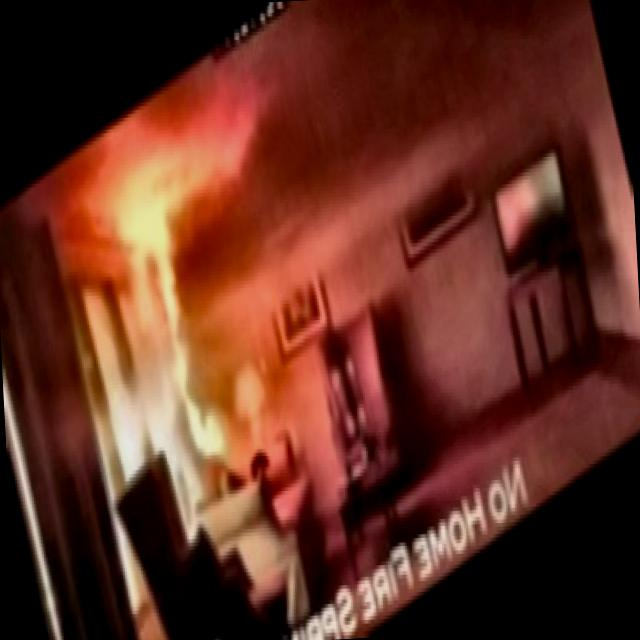fire: (41, 38, 318, 568)
